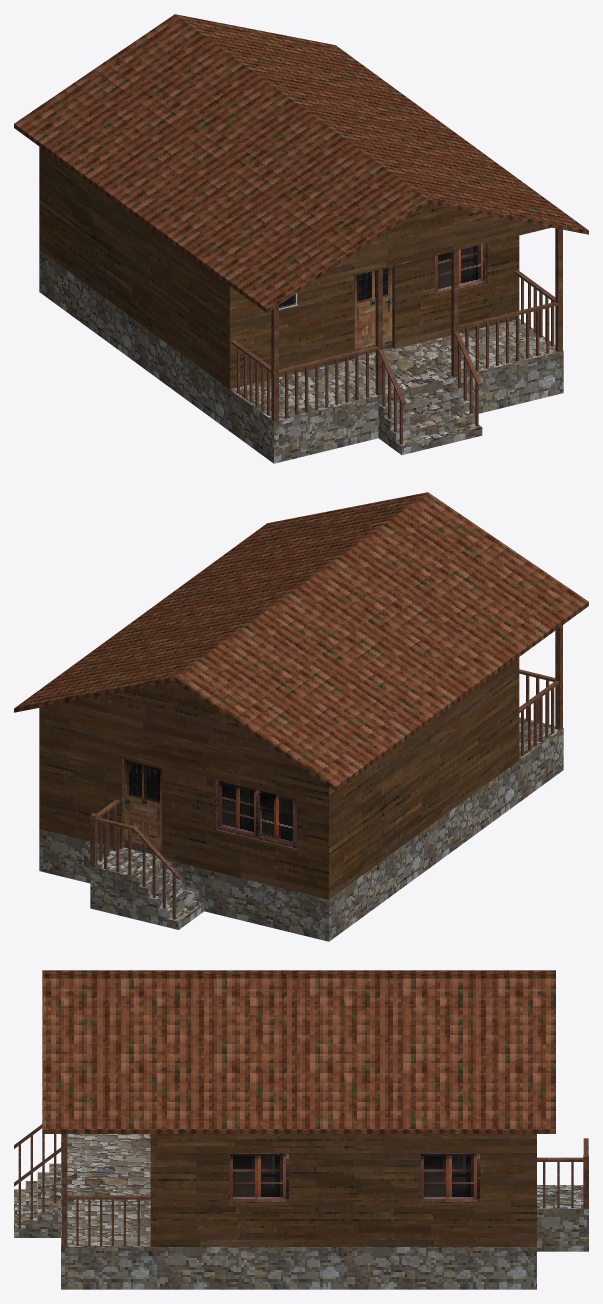
File: house4.glb
The picture shows the model from 3 angles, top to bottom: view 1: azimuth 30°, elevation 25°; view 2: azimuth 150°, elevation 25°; view 3: azimuth 270°, elevation 25°; orthographic projection.
Parts seen in each view (by area): view 1: house4, house4_door1, house4_windows; view 2: house4, house4_windows, house4_door2; view 3: house4, house4_windows.
Part boxes in pixels (bbox=[...]): house4: bbox=[14, 14, 588, 463]; house4_door1: bbox=[354, 266, 392, 356]; house4_windows: bbox=[279, 243, 487, 309]; house4: bbox=[14, 492, 588, 941]; house4_windows: bbox=[216, 779, 296, 849]; house4_door2: bbox=[124, 759, 161, 854]; house4: bbox=[14, 970, 588, 1289]; house4_windows: bbox=[228, 1153, 480, 1204].
Bounding box in the file's own units: 8 × 5.6 × 12.2.
8 materials, 8 textured.
